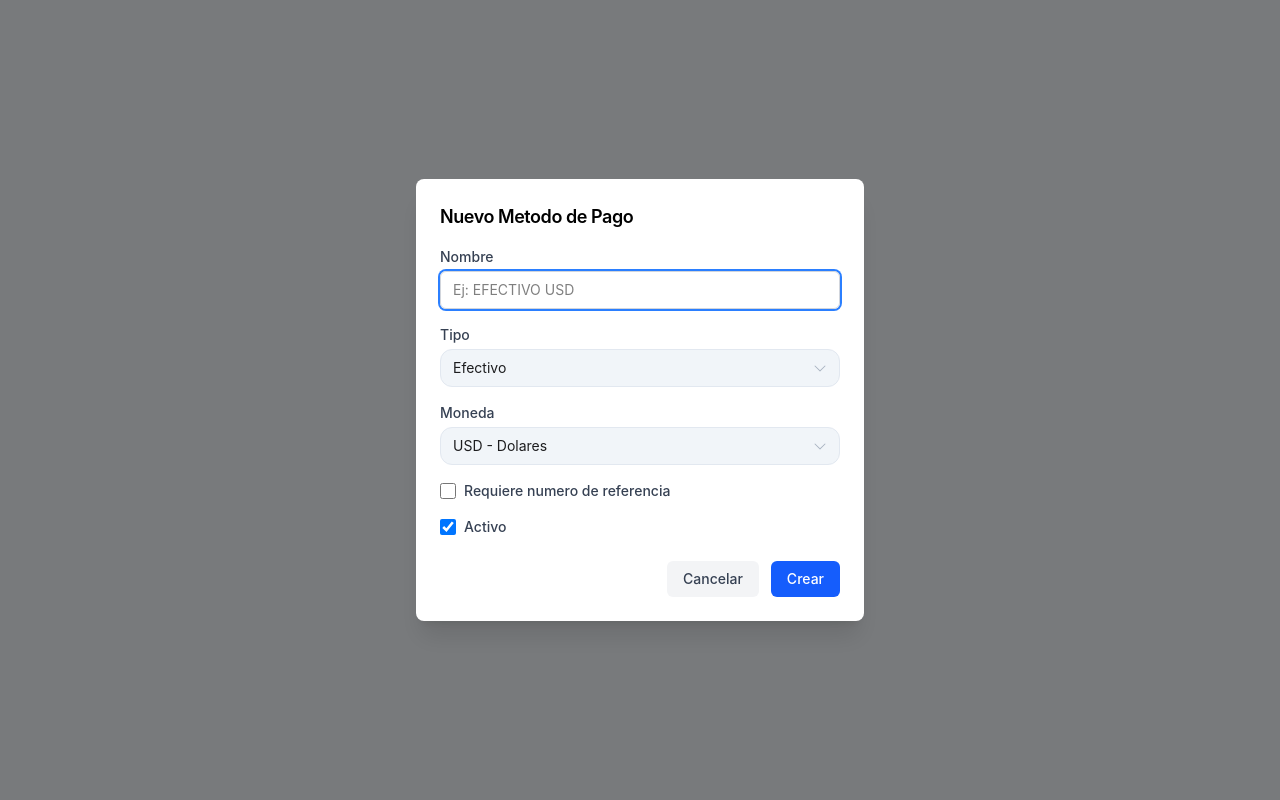
Test: PaymentMethodForm — moneda derivada del banco (creacion) › al elegir un banco, la moneda se deriva automaticamente y el select queda deshabilitado
Select "Transferencia" in the dropdown labelled "Tipo". click: (640, 368)
box: [440,349,840,387]
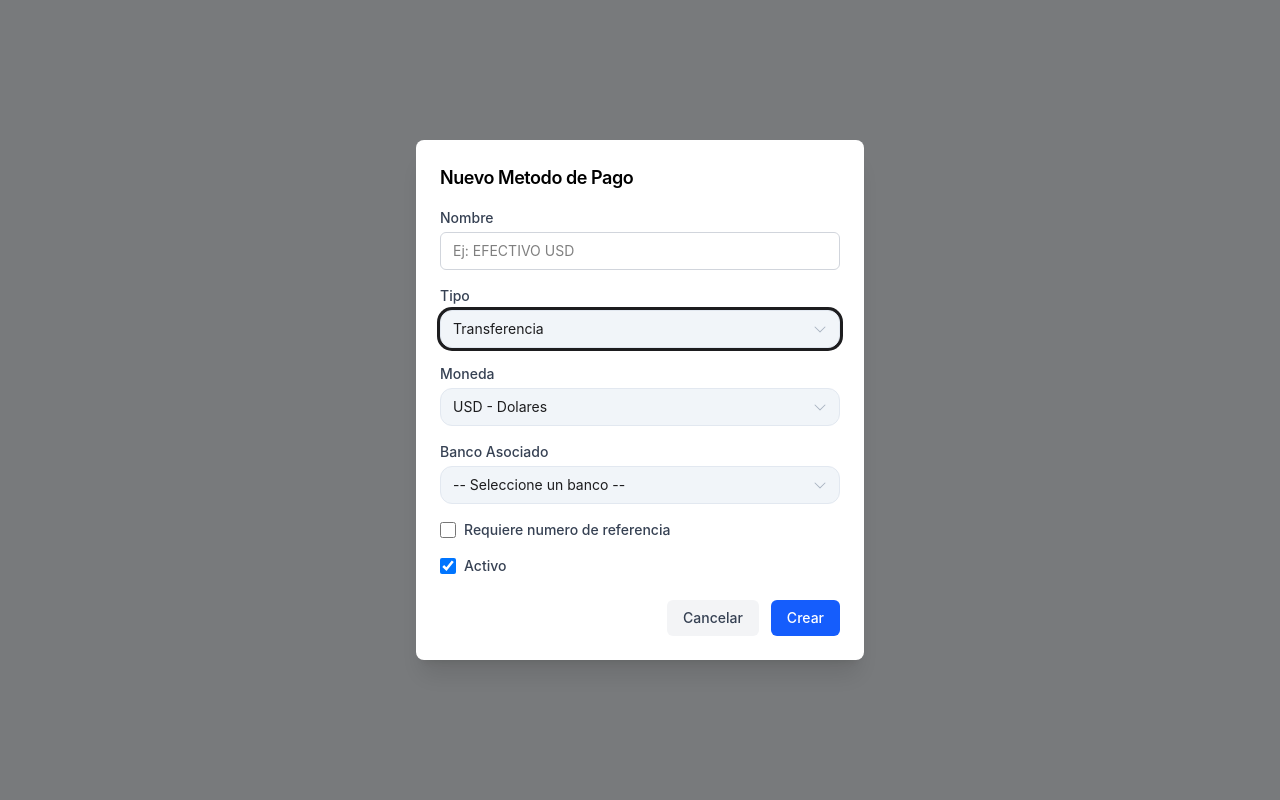
Select "BANCO DOS - 0001" in the dropdown labelled "Banco Asociado". click: (640, 485)
box: [440,466,840,504]
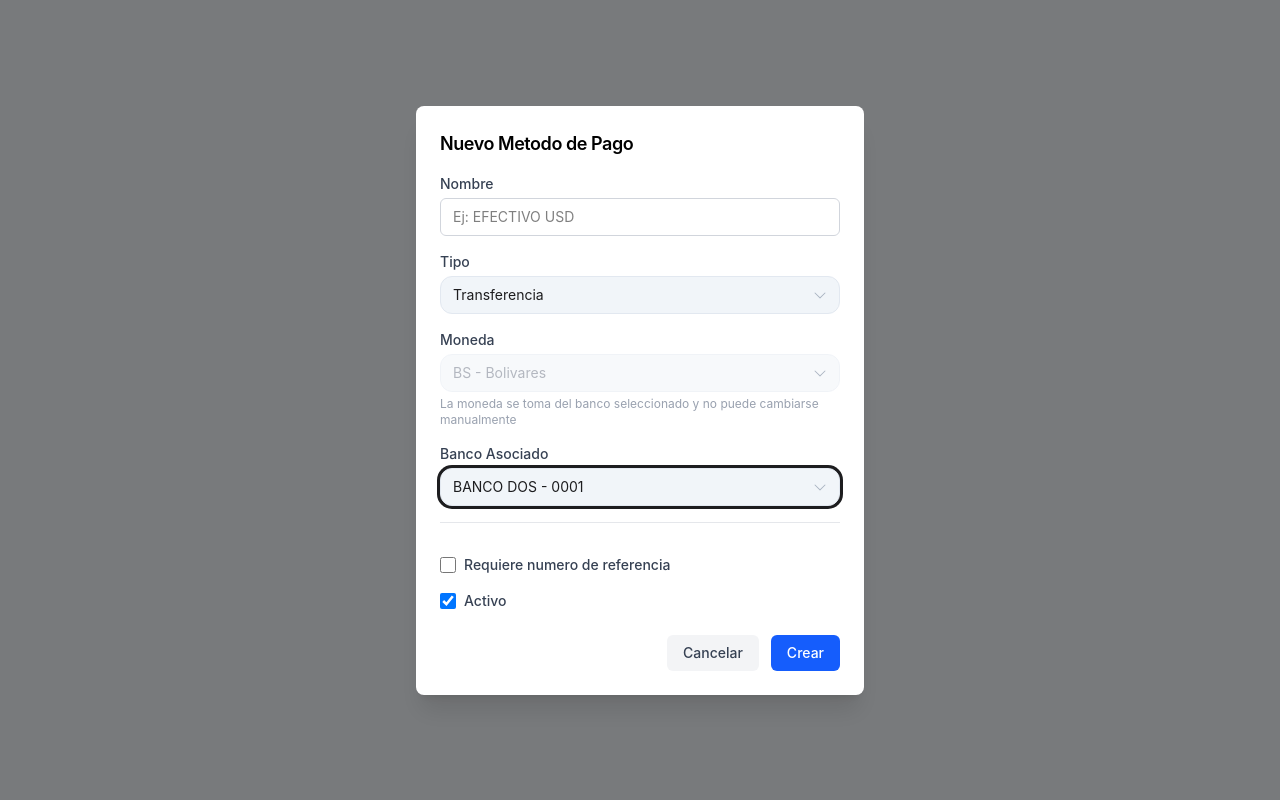
Expected: the dropdown labelled "Moneda" shows "BS - Bolivares", [440,354,840,392]
Expected: the dropdown labelled "Moneda" is disabled, [440,354,840,392]
